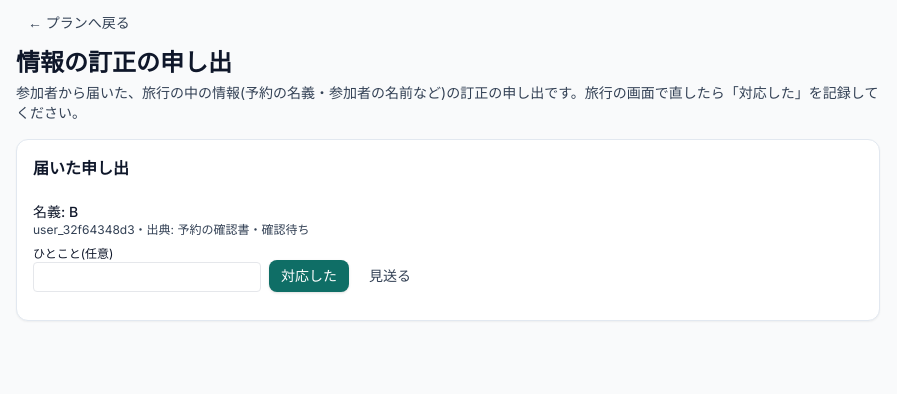
Test case: CorrectionRequestsPage › 所有者は届いた申し出に対応・見送りを記録する
In the field labelled "ひとこと(任意)": (147,277) [33, 262, 261, 292], type "確認できず"
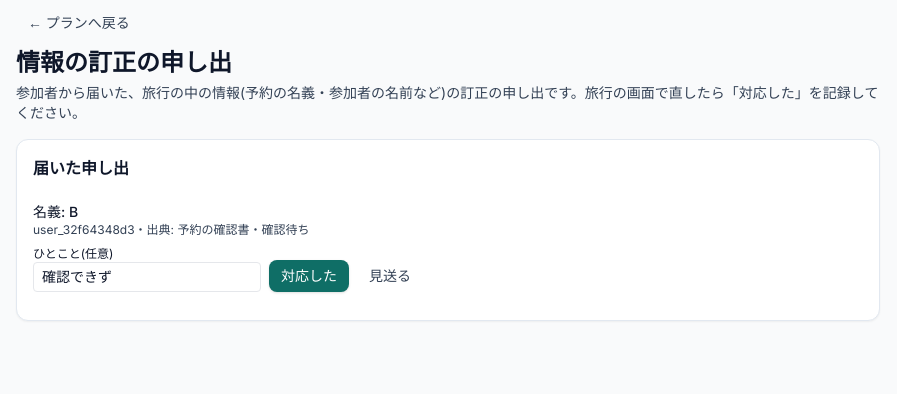
Click the button "見送る": (390,276) [357, 260, 423, 292]
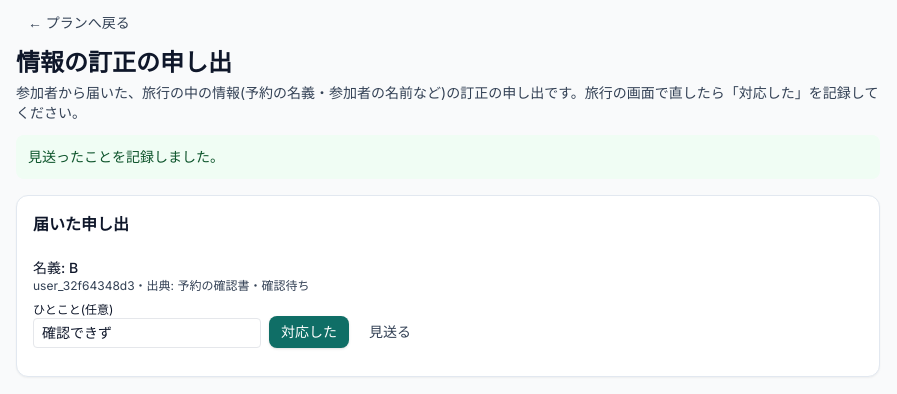
expect the message reads "見送ったことを記録しました。": met, box [28, 148, 224, 165]
